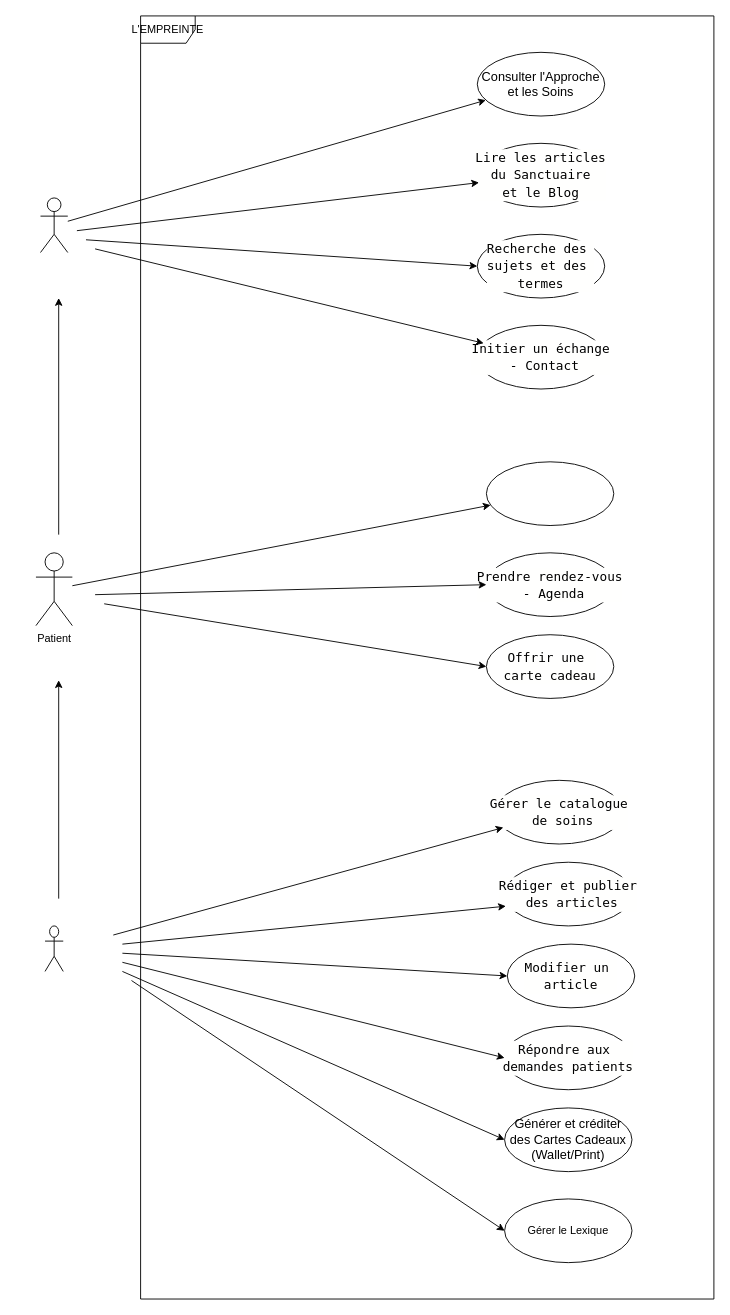
Image size: 730x1315. Some labels were removed from this diagram. Each missing label, with the centre of its shape:
Gérer son espace personnel: the point at 549,493
Sandrine Admin: the point at 53,948
Visiteur: the point at 54,225
